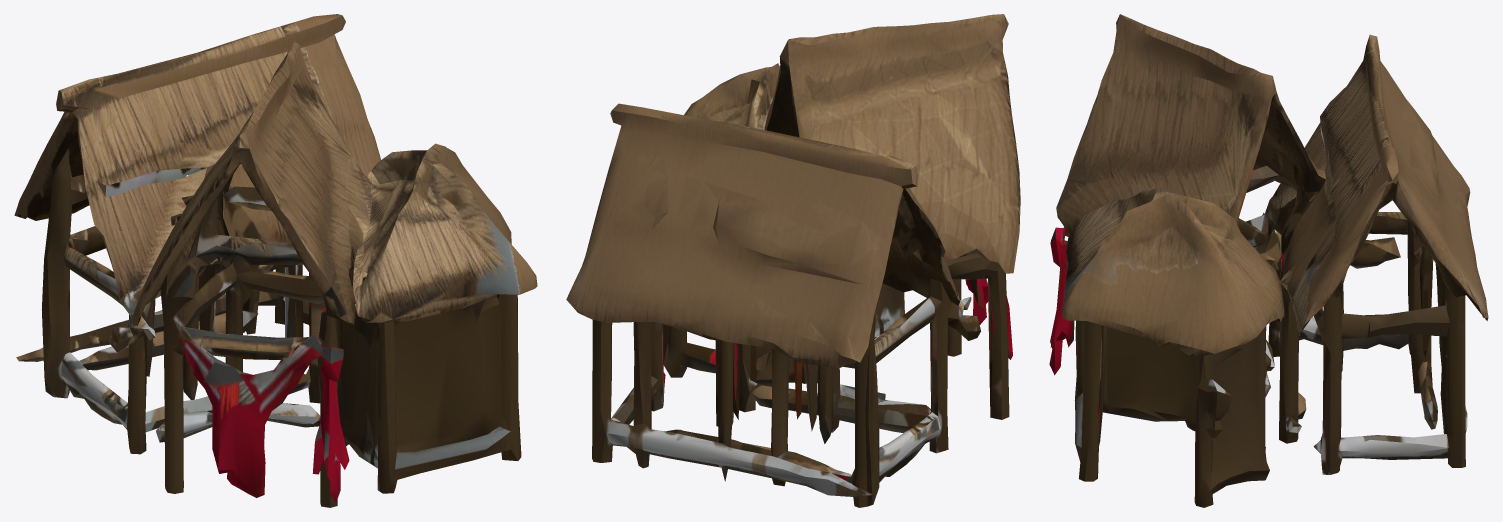
The model's file is guaranies_monte.glb.
3 renders of one model, left to right at view 1: azimuth 30°, elevation 25°; view 2: azimuth 150°, elevation 25°; view 3: azimuth 270°, elevation 25°, orthographic. The views are drawn at different scales.
Parts seen in each view (by area): view 1: geometry_0; view 2: geometry_0; view 3: geometry_0.
Boxes of the visible parts, left/top/right/bottom form: geometry_0: left=14, top=14, right=537, bottom=507; geometry_0: left=566, top=14, right=1020, bottom=507; geometry_0: left=1049, top=14, right=1488, bottom=507.
Size of the model in its own units: 3.23 by 3 by 3.4.
1 material, 1 textured.
